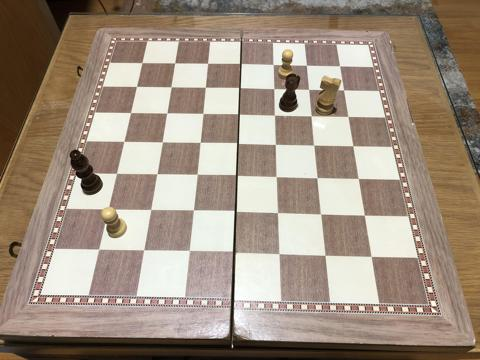xcorner: (300, 59, 313, 71), (234, 58, 247, 70), (337, 83, 350, 95), (303, 82, 315, 95), (232, 108, 245, 120), (196, 108, 209, 120), (161, 107, 173, 120), (270, 170, 283, 182), (150, 168, 162, 181), (358, 208, 370, 221), (271, 207, 284, 219), (318, 249, 331, 261), (334, 59, 346, 71), (267, 58, 279, 70), (202, 58, 214, 70), (169, 58, 181, 70), (137, 57, 149, 69), (268, 82, 280, 94), (234, 82, 246, 94), (199, 82, 211, 94), (165, 81, 177, 93), (131, 81, 143, 93), (342, 109, 354, 121), (305, 109, 317, 121), (269, 109, 281, 121), (125, 107, 137, 119), (347, 139, 359, 151), (308, 138, 320, 150), (270, 138, 282, 150), (231, 137, 243, 149), (193, 137, 205, 149), (156, 136, 168, 148), (118, 136, 130, 148), (352, 172, 364, 184), (311, 171, 323, 183), (230, 170, 242, 182), (190, 169, 202, 181), (110, 168, 122, 180), (315, 208, 327, 220), (229, 206, 241, 218), (186, 205, 198, 217), (144, 205, 156, 217), (102, 204, 114, 216), (365, 250, 377, 262), (273, 248, 285, 260), (227, 247, 239, 259), (182, 246, 194, 258), (137, 245, 149, 257), (92, 244, 104, 256)
